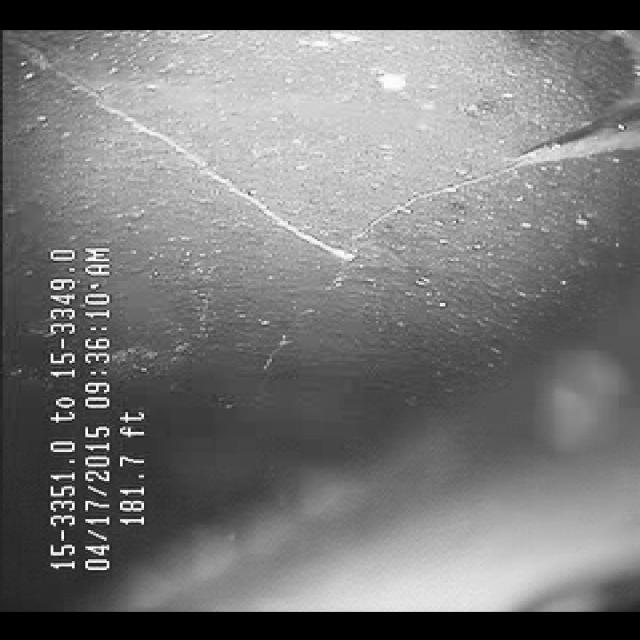Crack: (137, 80, 577, 318)
